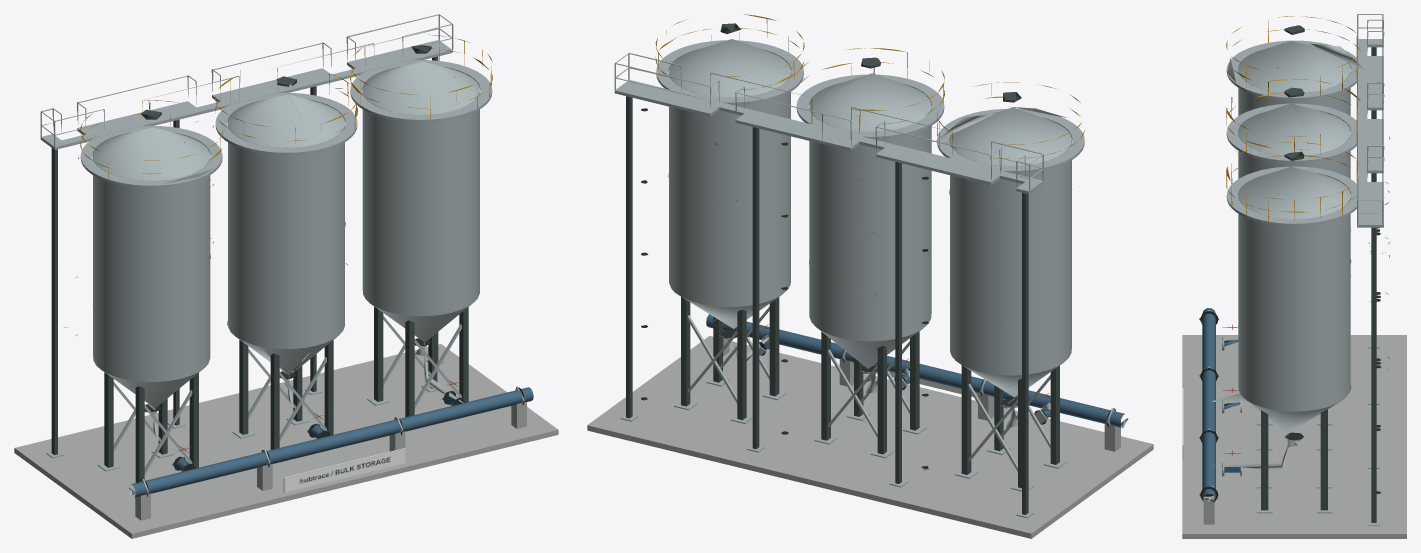
File: silo-farm.glb
3 renders of one model, left to right at view 1: azimuth 30°, elevation 25°; view 2: azimuth 150°, elevation 25°; view 3: azimuth 270°, elevation 25°, orthographic. The views are drawn at different scales.
Visible parts, largest first — view 1: storage_vessels_brushed-metal-panels, silo-farm_cast-concrete, storage_vessels_galvanized-steel, storage_vessels_powder-coated-frame, silo-farm_galvanized-steel, silo-farm_utility-blue, silo-farm_powder-coated-frame, silo-farm_silo-site-sign-ink, storage_vessels_safety-yellow, storage_vessels_rubber-gaskets; view 2: storage_vessels_brushed-metal-panels, silo-farm_cast-concrete, storage_vessels_galvanized-steel, storage_vessels_powder-coated-frame, silo-farm_powder-coated-frame, silo-farm_galvanized-steel, silo-farm_utility-blue, storage_vessels_safety-yellow, storage_vessels_rubber-gaskets; view 3: storage_vessels_brushed-metal-panels, silo-farm_cast-concrete, storage_vessels_galvanized-steel, silo-farm_galvanized-steel, silo-farm_utility-blue, storage_vessels_powder-coated-frame, silo-farm_powder-coated-frame, storage_vessels_safety-yellow, silo-farm_rubber-gaskets, storage_vessels_rubber-gaskets.
Part boxes in pixels (x1=…): storage_vessels_brushed-metal-panels: x1=93, y1=61, x2=479, y2=408; silo-farm_cast-concrete: x1=14, y1=344, x2=558, y2=538; storage_vessels_galvanized-steel: x1=63, y1=60, x2=492, y2=492; storage_vessels_powder-coated-frame: x1=104, y1=45, x2=468, y2=482; silo-farm_galvanized-steel: x1=40, y1=14, x2=533, y2=495; silo-farm_utility-blue: x1=131, y1=387, x2=533, y2=497; silo-farm_powder-coated-frame: x1=51, y1=56, x2=438, y2=455; silo-farm_silo-site-sign-ink: x1=285, y1=449, x2=404, y2=491; storage_vessels_safety-yellow: x1=80, y1=34, x2=492, y2=179; storage_vessels_rubber-gaskets: x1=144, y1=338, x2=464, y2=471; storage_vessels_brushed-metal-panels: x1=669, y1=39, x2=1071, y2=397; silo-farm_cast-concrete: x1=587, y1=330, x2=1153, y2=538; storage_vessels_galvanized-steel: x1=656, y1=40, x2=1084, y2=491; storage_vessels_powder-coated-frame: x1=681, y1=23, x2=1059, y2=488; silo-farm_powder-coated-frame: x1=626, y1=96, x2=1028, y2=514; silo-farm_galvanized-steel: x1=614, y1=52, x2=1128, y2=518; silo-farm_utility-blue: x1=706, y1=314, x2=1124, y2=428; storage_vessels_safety-yellow: x1=655, y1=14, x2=1084, y2=170; storage_vessels_rubber-gaskets: x1=641, y1=108, x2=1050, y2=468; storage_vessels_brushed-metal-panels: x1=1238, y1=41, x2=1350, y2=434; silo-farm_cast-concrete: x1=1182, y1=335, x2=1406, y2=538; storage_vessels_galvanized-steel: x1=1212, y1=40, x2=1389, y2=513; silo-farm_galvanized-steel: x1=1199, y1=14, x2=1384, y2=525; silo-farm_utility-blue: x1=1202, y1=308, x2=1215, y2=498; storage_vessels_powder-coated-frame: x1=1261, y1=25, x2=1327, y2=510; silo-farm_powder-coated-frame: x1=1371, y1=47, x2=1376, y2=522; storage_vessels_safety-yellow: x1=1226, y1=16, x2=1360, y2=221; silo-farm_rubber-gaskets: x1=1200, y1=311, x2=1218, y2=501; storage_vessels_rubber-gaskets: x1=1222, y1=227, x2=1380, y2=493.
Bounding box in the file's own units: 19.3 × 15.71 × 9.21.
Materials: 2 (2 with a texture image).
